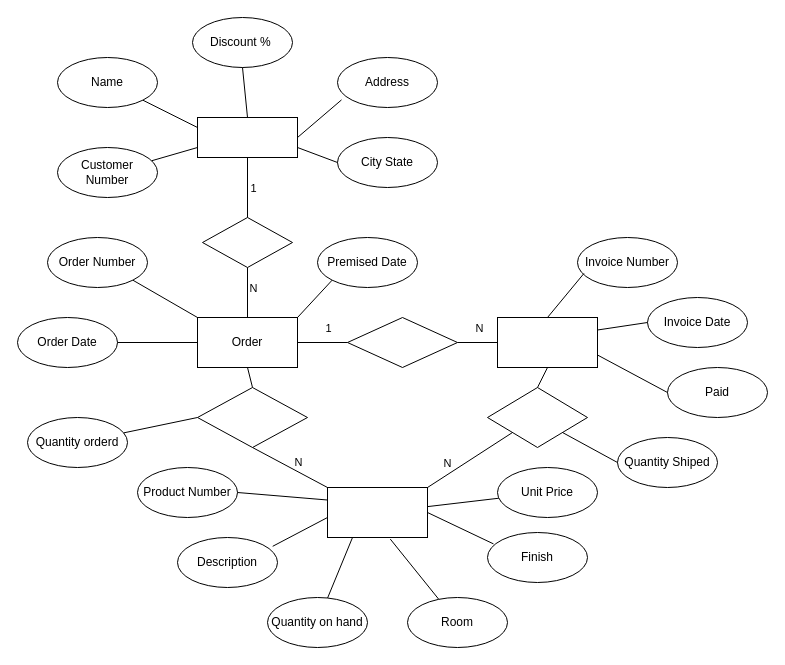
This 785x665 diagram has some shape labels left out. Each missing label, with the box of its shape:
Customer: (196, 116, 298, 158)
Invoice: (496, 316, 598, 368)
Placed by: (202, 216, 292, 268)
Product: (326, 486, 428, 538)
Request on: (196, 386, 308, 448)
Ship On: (486, 386, 588, 448)
Shipped For: (346, 316, 458, 368)
